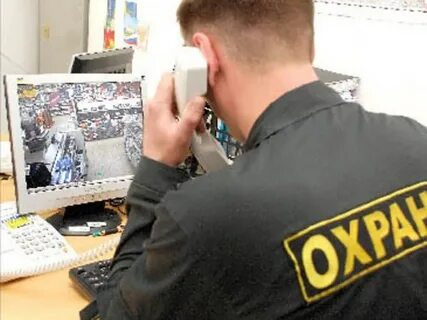awake: (96, 1, 426, 320)
